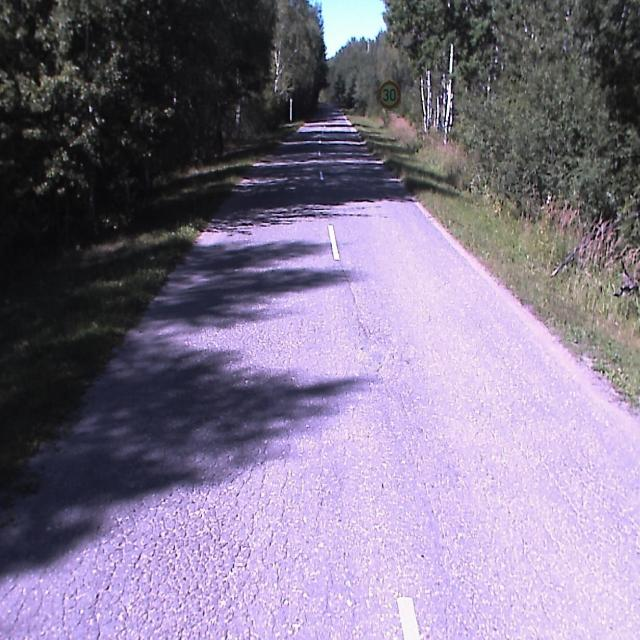road: (0, 111, 639, 639)
